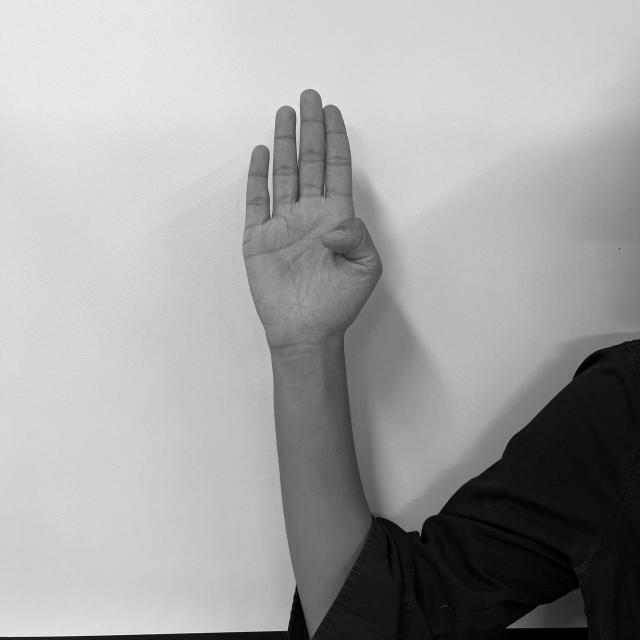Letra B: (238, 83, 386, 344)
